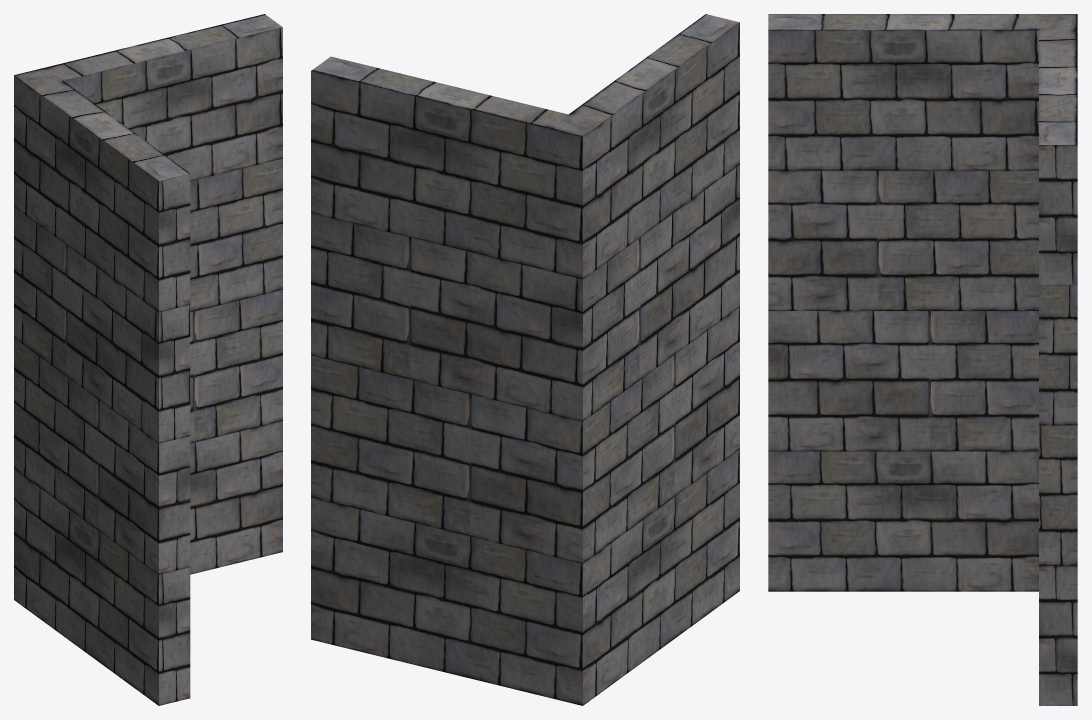
Rendered from wall_corner_inner_01.fbx.
The picture shows the model from 3 angles, left to right: view 1: azimuth 30°, elevation 25°; view 2: azimuth 150°, elevation 25°; view 3: azimuth 270°, elevation 25°; orthographic projection. The views are drawn at different scales.
Visible parts, largest first — view 1: wall_corner_inner_01; view 2: wall_corner_inner_01; view 3: wall_corner_inner_01.
Boxes of the visible parts, box(x1,y1,x2,y2) form: wall_corner_inner_01: box(14, 14, 282, 705); wall_corner_inner_01: box(311, 14, 739, 705); wall_corner_inner_01: box(768, 14, 1077, 705).
Bounding box in the file's own units: 800 × 1600 × 800.
